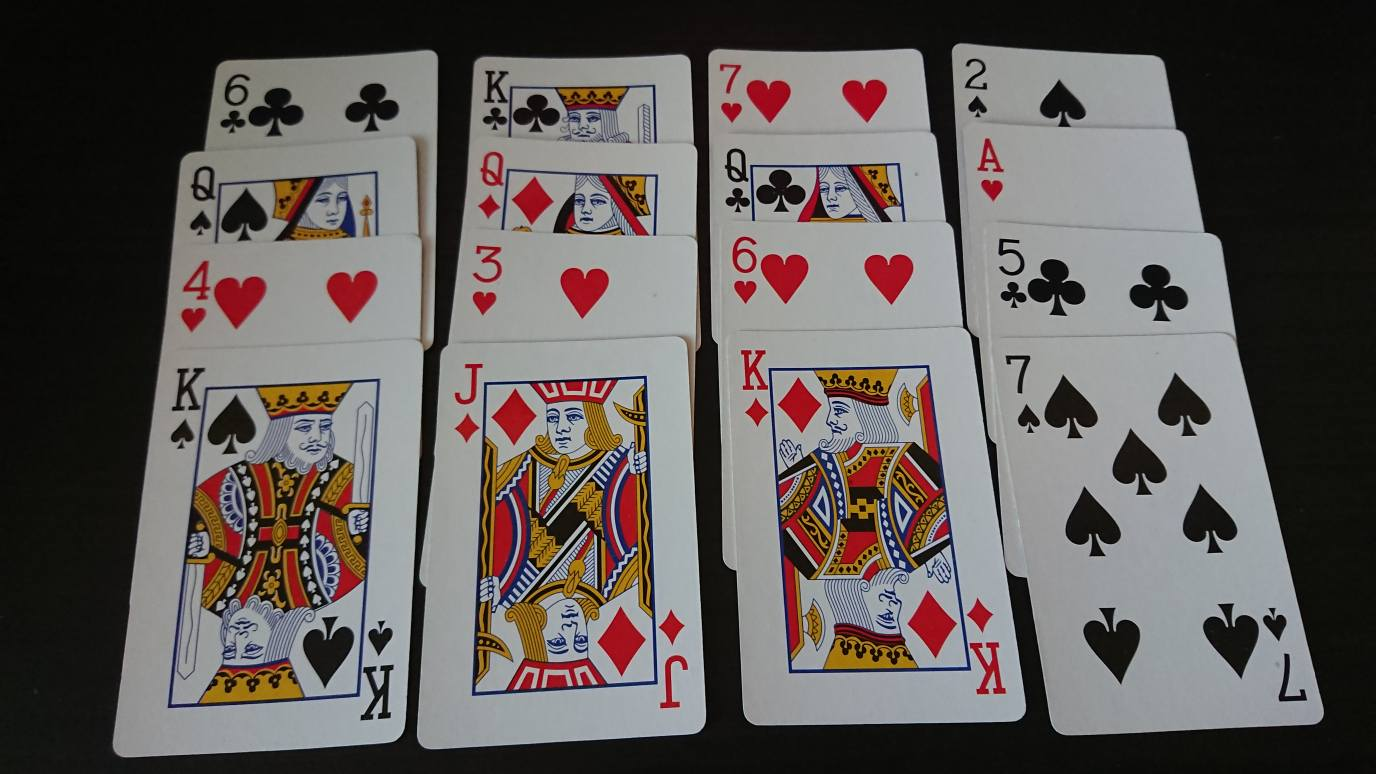2S: (959, 50, 992, 123)
3H: (467, 239, 506, 318)
4H: (172, 257, 217, 338)
5C: (988, 230, 1031, 314)
6C: (216, 68, 253, 138)
6H: (727, 231, 761, 309)
7H: (714, 57, 746, 131)
7S: (996, 345, 1045, 439)
AH: (970, 132, 1014, 208)
JD: (447, 359, 488, 449)
KC: (476, 65, 513, 135)
KD: (735, 341, 775, 430)
KS: (164, 357, 210, 453)
QC: (721, 142, 753, 217)
QD: (471, 147, 511, 225)
QS: (186, 160, 222, 243)
